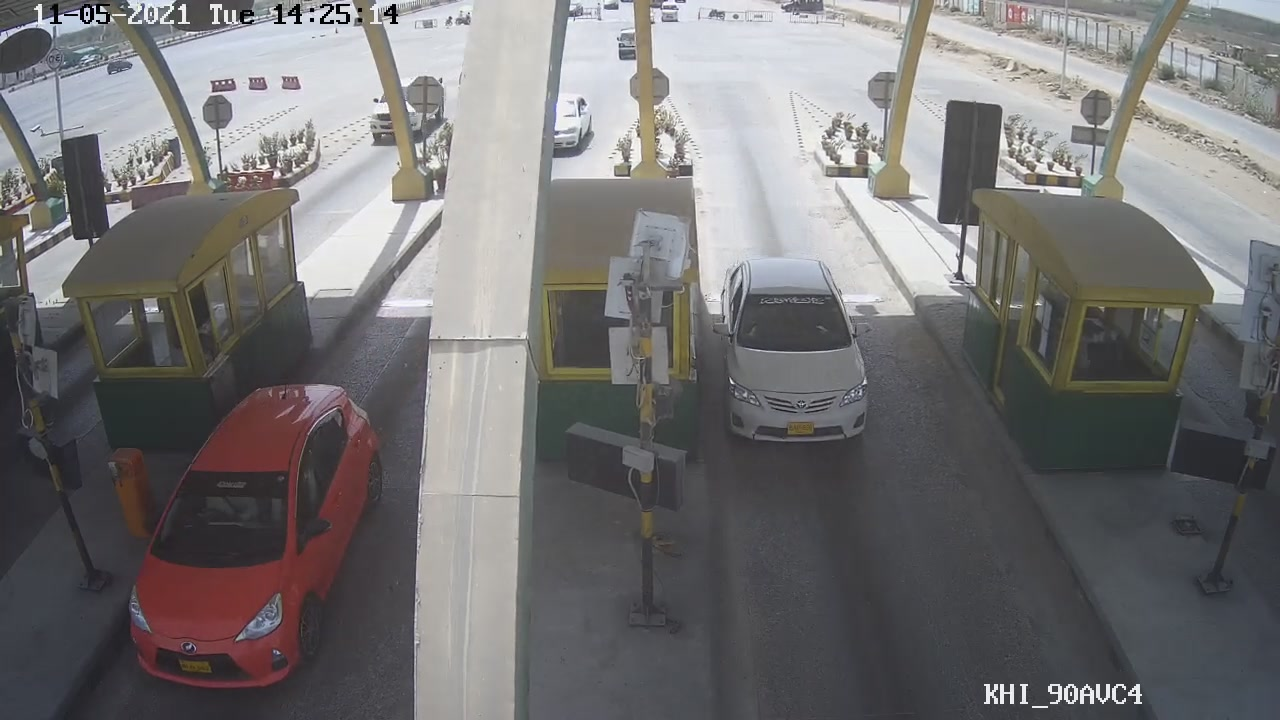F1: (709, 256, 877, 448)
